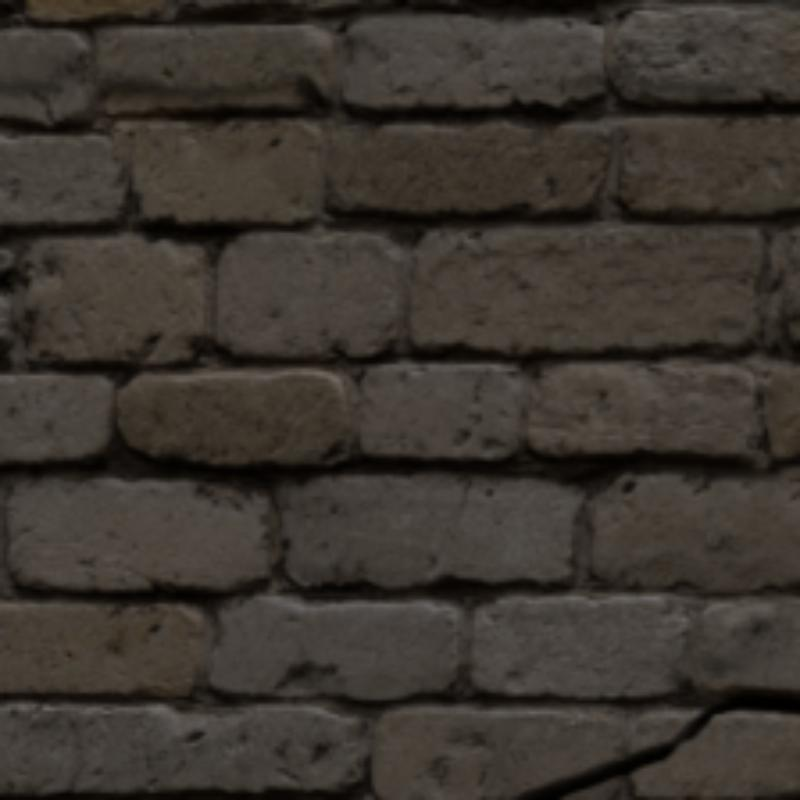pothole: (514, 693, 796, 796)
